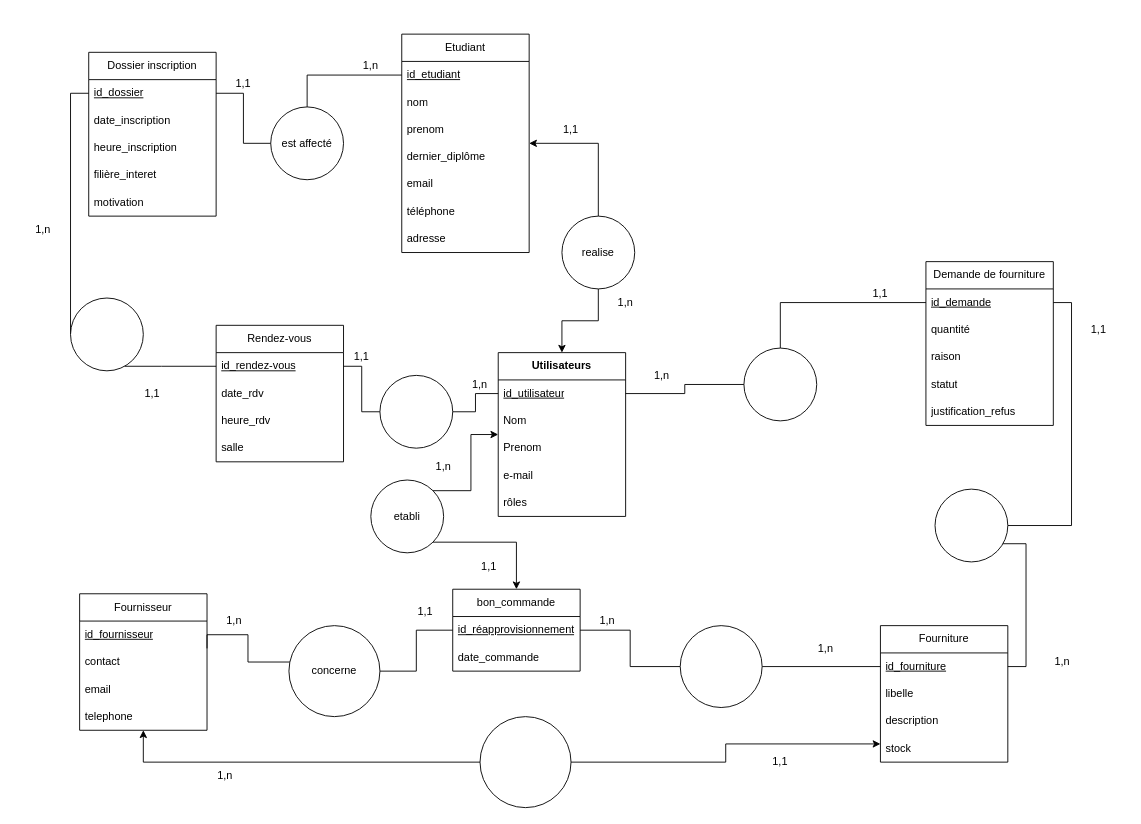
Image size: 1141x824. Some labels were removed from this diagram. The shapes that lost their labels are listed below. From the top down, each one's centre as x and y in pixels, then its label:
At (106,334): "engendre".
At (780,384): "effectue".
At (416,411): "donne".
At (971,525): "contient".
At (720,666): "concerne quantite".
At (525,762): "fourni".
